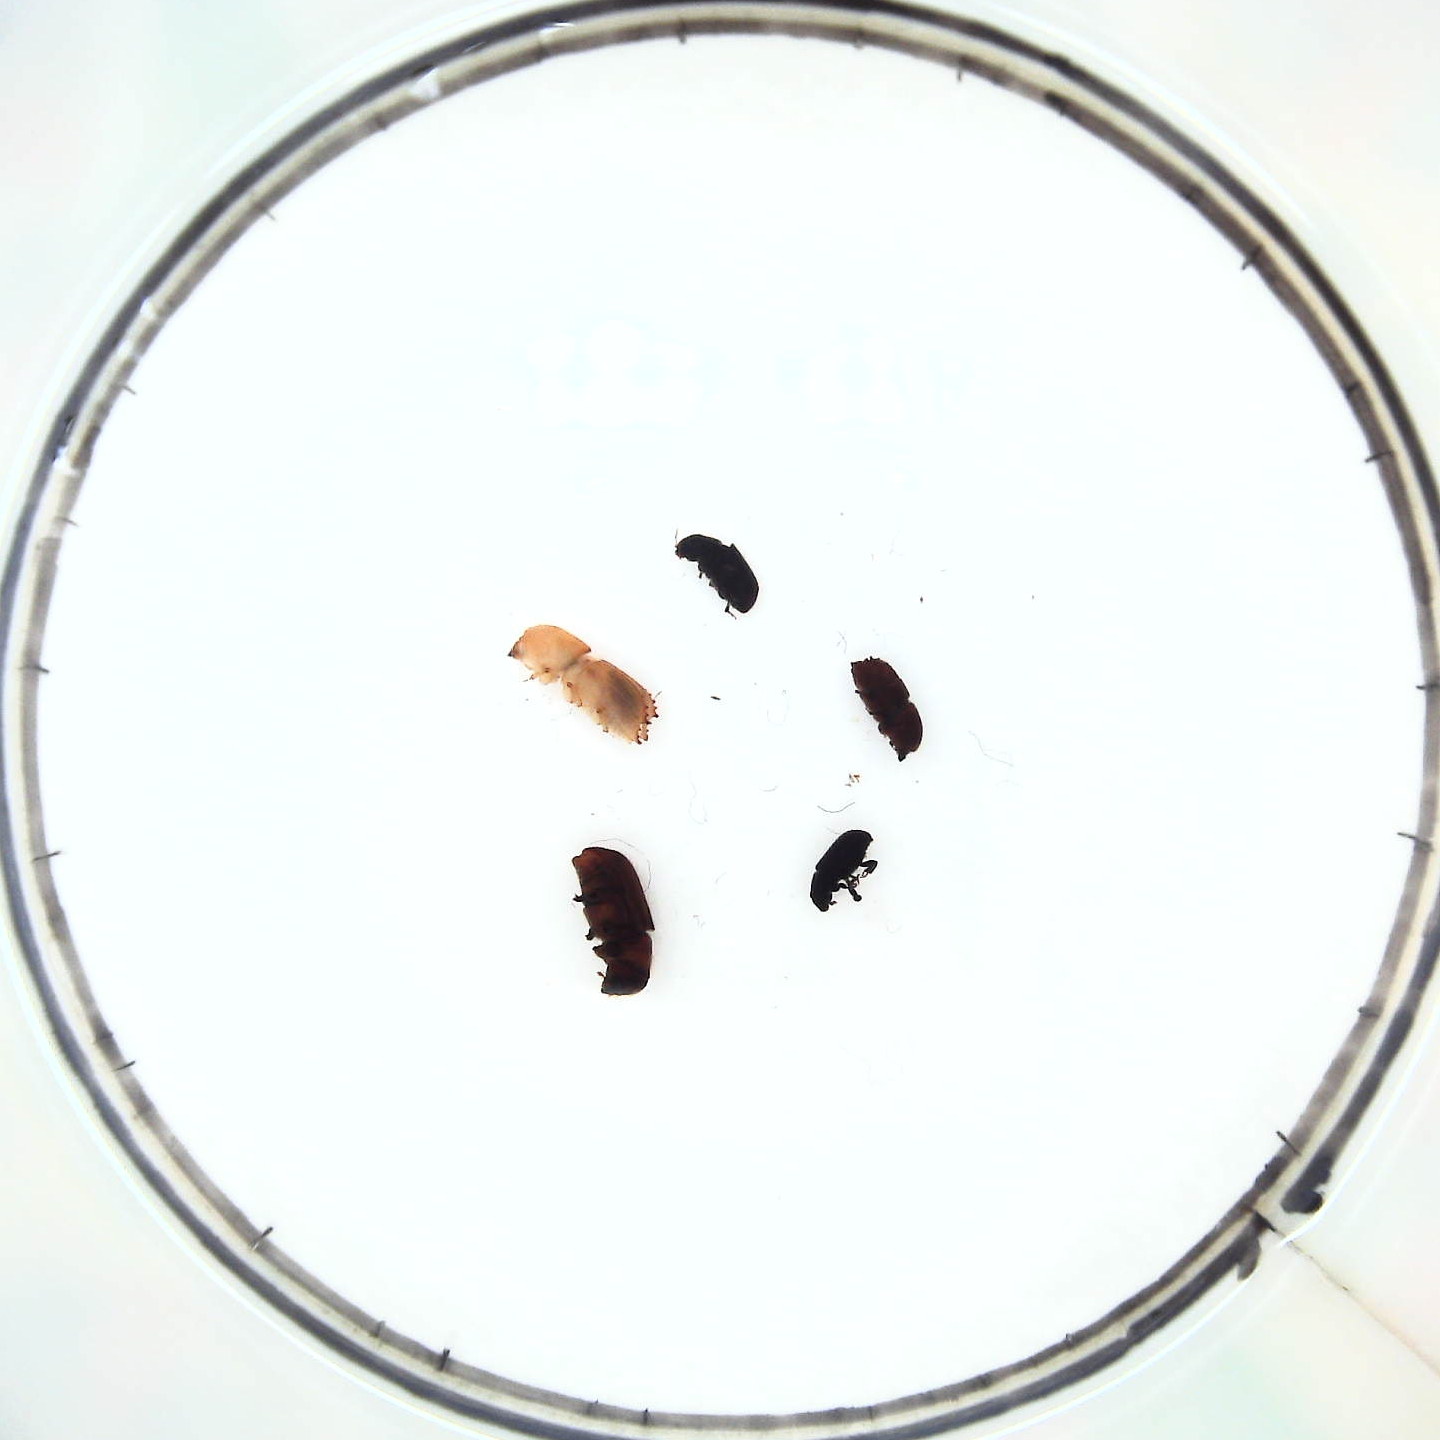Boerner: (505, 618, 658, 748)
Leconte: (571, 841, 655, 1000)
Linnaeus: (851, 653, 924, 765)
armandi: (675, 529, 764, 618)
coleoptera: (810, 825, 878, 914)
